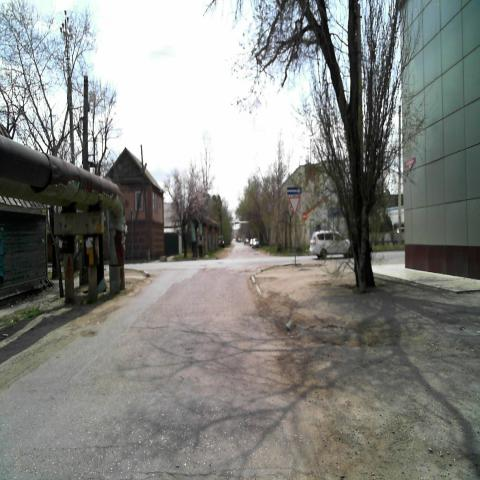5_7_1: (287, 187, 301, 195)
